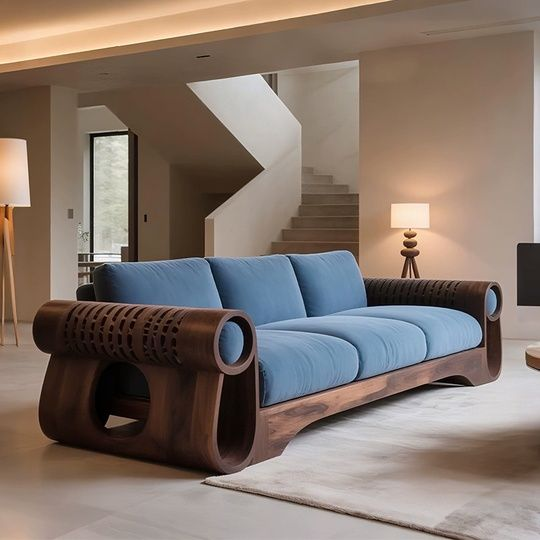3seatersofa: (34, 250, 501, 472)
backrest: (94, 251, 366, 324)
base: (262, 349, 484, 439)
leftarmrest: (365, 278, 502, 376)
leg: (248, 436, 287, 465), (463, 364, 498, 388)
rightarmrest: (34, 301, 257, 471)
seat: (257, 306, 481, 406)
